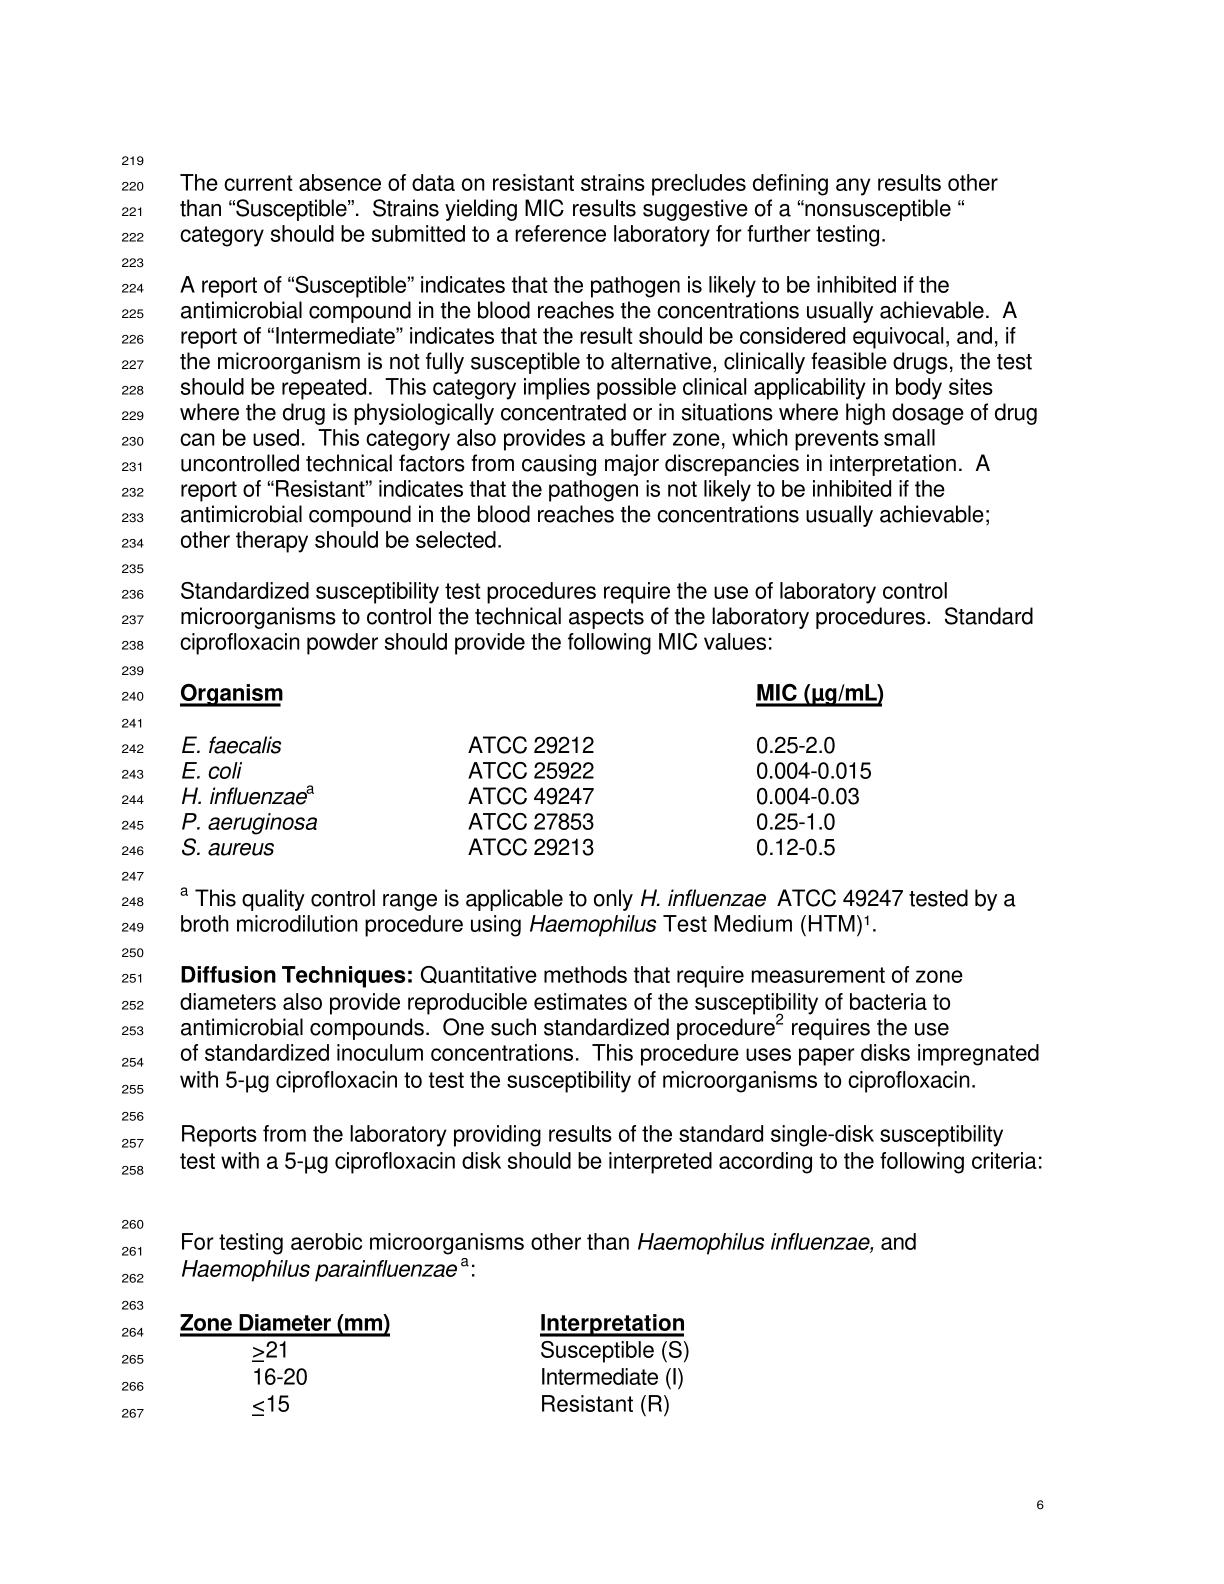nolines: (179, 680, 887, 860), (175, 1309, 692, 1418)
